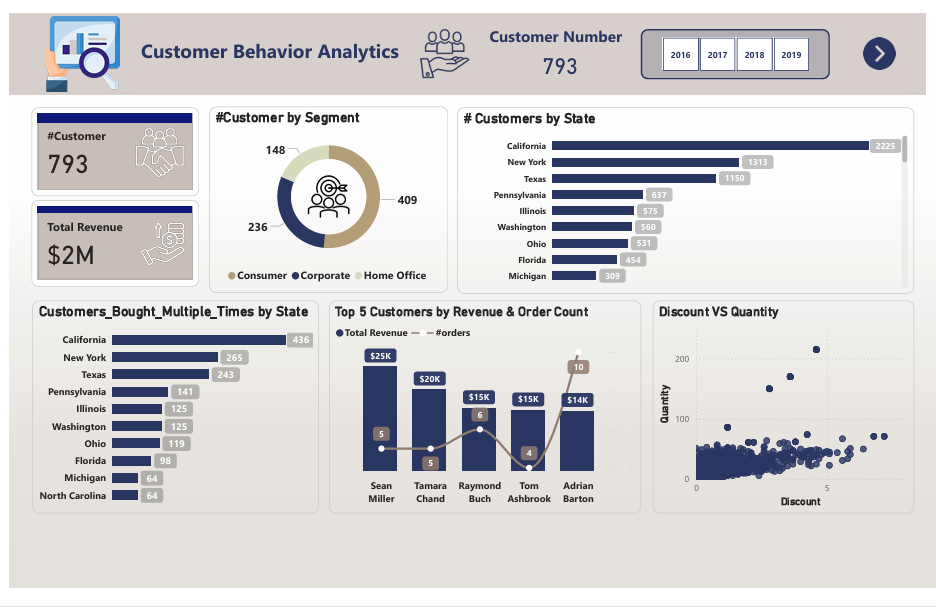

The page's visual inventory and layout, read from the dashboard file:
{"tool":"powerbi","page":{"name":"Customers","canvas":[1280,720],"ordinal":1},"visuals":[{"type":"cardVisual","fields":{"Data":["Measuers (2).#Customer"]},"box":[31.4,131.5,234,124.3],"z":0},{"type":"donutChart","fields":{"Y":["Measuers (2).#Customer"],"Category":["Customer.Segment"]},"box":[279.3,130.8,333.3,259.7],"z":1000},{"type":"shape","box":[0,0,1280,113.4],"z":2000},{"type":"clusteredBarChart","title":"# Customers by State","fields":{"Category":["Regoin.State"],"Y":["Order.Customer ID"]},"box":[626.2,131.3,637.7,259.7],"z":3000},{"type":"barChart","fields":{"Category":["Regoin.State"],"Y":["Measuers (2).Customers_Bought_Multiple_Times"]},"box":[31.7,401.1,399.6,297.2],"z":4000},{"type":"lineClusteredColumnComboChart","title":"Top 5 Customers by Revenue & Order Count","fields":{"Category":["Customer.Customer Name"],"Y":["Measuers (2).Total Revenue"],"Y2":["Measuers (2).#orders"]},"box":[446.4,400.5,435.5,296.8],"z":5000},{"type":"scatterChart","title":" Discount VS Quantity ","fields":{"X":["Order.Discount"],"Y":["Measuers (2).#Quantity"],"Category":["Product.Product Id"]},"box":[897.9,401.2,365.4,296.8],"z":6000},{"type":"image","box":[404.1,219.3,83.8,72.7],"z":7000},{"type":"textbox","box":[179.8,29,387.3,54.3],"z":8000},{"type":"image","box":[3.6,0,197.9,114.6],"z":9000},{"type":"image","box":[552.5,13.3,112.2,85.7],"z":10000},{"type":"textbox","box":[666,12.1,207.5,44.6],"z":11000},{"type":"card","fields":{"Values":["Measuers (2).#Customer"]},"box":[722.7,44.6,92.9,54.3],"z":12000},{"type":"slicer","fields":{"Values":["Order.Order Date.Variation.Date Hierarchy.Year"]},"box":[881.9,21.7,264.2,70],"z":13000},{"type":"image","box":[1173.9,29,80.8,55.5],"z":14000},{"type":"cardVisual","fields":{"Data":["Measuers (2).Total Revenue"]},"box":[31.4,260.6,234,120.6],"z":15000}]}

Visuals, with their boxes on the page's 1280x720 design canvas (x1, y1, x2, y2). These are canvas units, not pixel positions in the 936x607 screenshot, which may show the page scaled, cropped or inside an application window:
cardVisual - Measuers (2).#Customer: Rect(31, 132, 265, 256)
donutChart - Measuers (2).#Customer x Customer.Segment: Rect(279, 131, 613, 390)
shape: Rect(0, 0, 1280, 113)
"# Customers by State" clusteredBarChart: Rect(626, 131, 1264, 391)
barChart - Regoin.State x Measuers (2).Customers_Bought_Multiple_Times: Rect(32, 401, 431, 698)
"Top 5 Customers by Revenue & Order Count" lineClusteredColumnComboChart: Rect(446, 400, 882, 697)
" Discount VS Quantity " scatterChart: Rect(898, 401, 1263, 698)
image: Rect(404, 219, 488, 292)
textbox: Rect(180, 29, 567, 83)
image: Rect(4, 0, 202, 115)
image: Rect(552, 13, 665, 99)
textbox: Rect(666, 12, 874, 57)
card - Measuers (2).#Customer: Rect(723, 45, 816, 99)
slicer - Order.Order Date.Variation.Date Hierarchy.Year: Rect(882, 22, 1146, 92)
image: Rect(1174, 29, 1255, 84)
cardVisual - Measuers (2).Total Revenue: Rect(31, 261, 265, 381)
